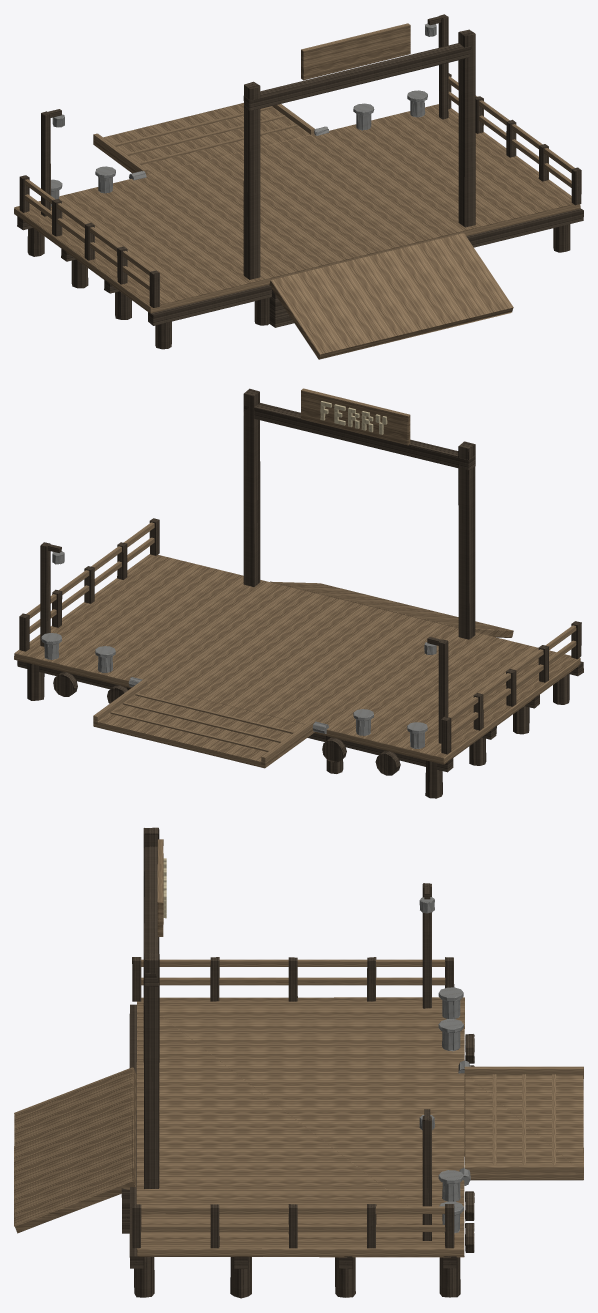
Rendered from ferry_dock.glb.
3 views of the same model, one above another, from view 1: azimuth 30°, elevation 25°; view 2: azimuth 150°, elevation 25°; view 3: azimuth 270°, elevation 25° (orthographic). The views are drawn at different scales.
Visible parts, largest first — view 1: FerryDock, Ramp; view 2: FerryDock, Ramp; view 3: FerryDock, Ramp.
Boxes of the visible parts, x1,y1,x2,y2 form: FerryDock: [14, 14, 583, 359]; Ramp: [93, 103, 314, 174]; FerryDock: [14, 388, 583, 798]; Ramp: [93, 679, 314, 768]; FerryDock: [14, 827, 474, 1298]; Ramp: [464, 1066, 583, 1180].
Size of the model in its own units: 11.21 by 6.37 by 10.71.
Materials: 4 (4 with a texture image).
